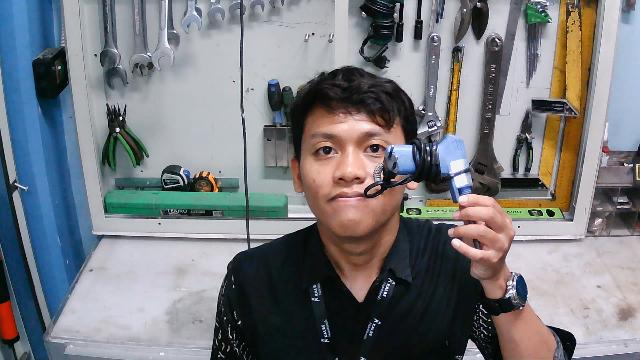solder_electrical: (363, 133, 478, 250)
